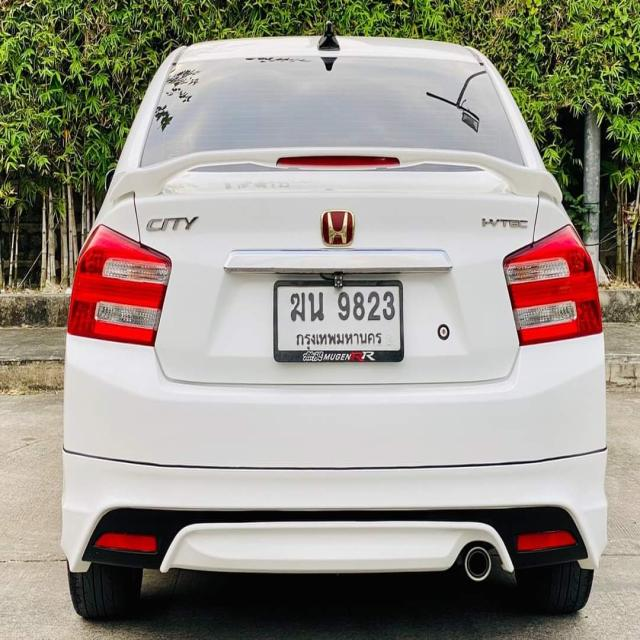license_plate: (274, 278, 405, 366)
